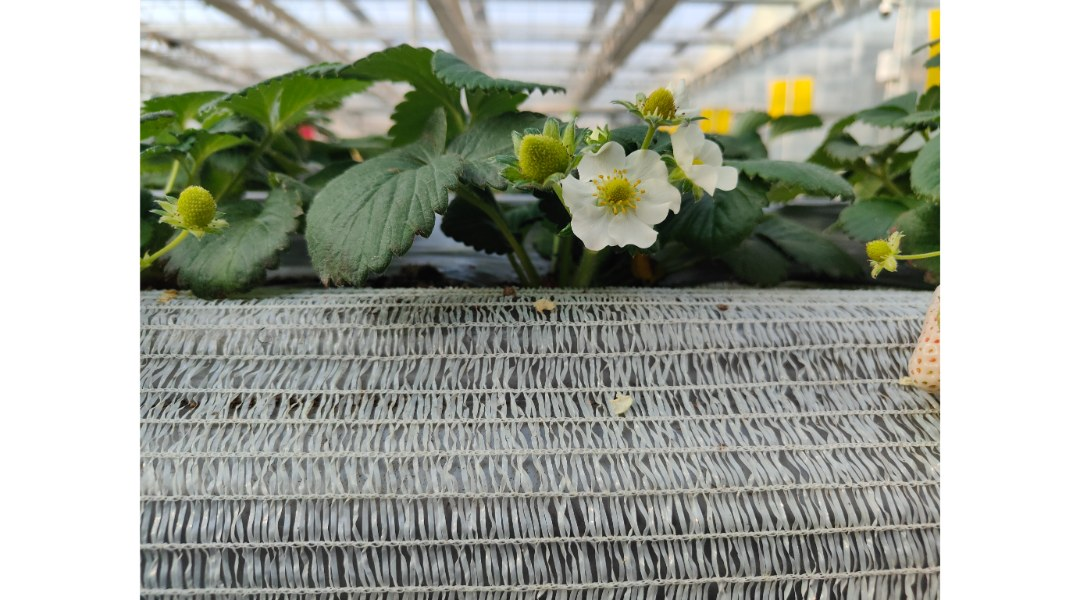berry: (152, 184, 238, 244), (501, 127, 576, 191), (851, 213, 907, 281), (619, 84, 693, 121)
flower: (559, 131, 683, 261), (663, 111, 733, 210)
